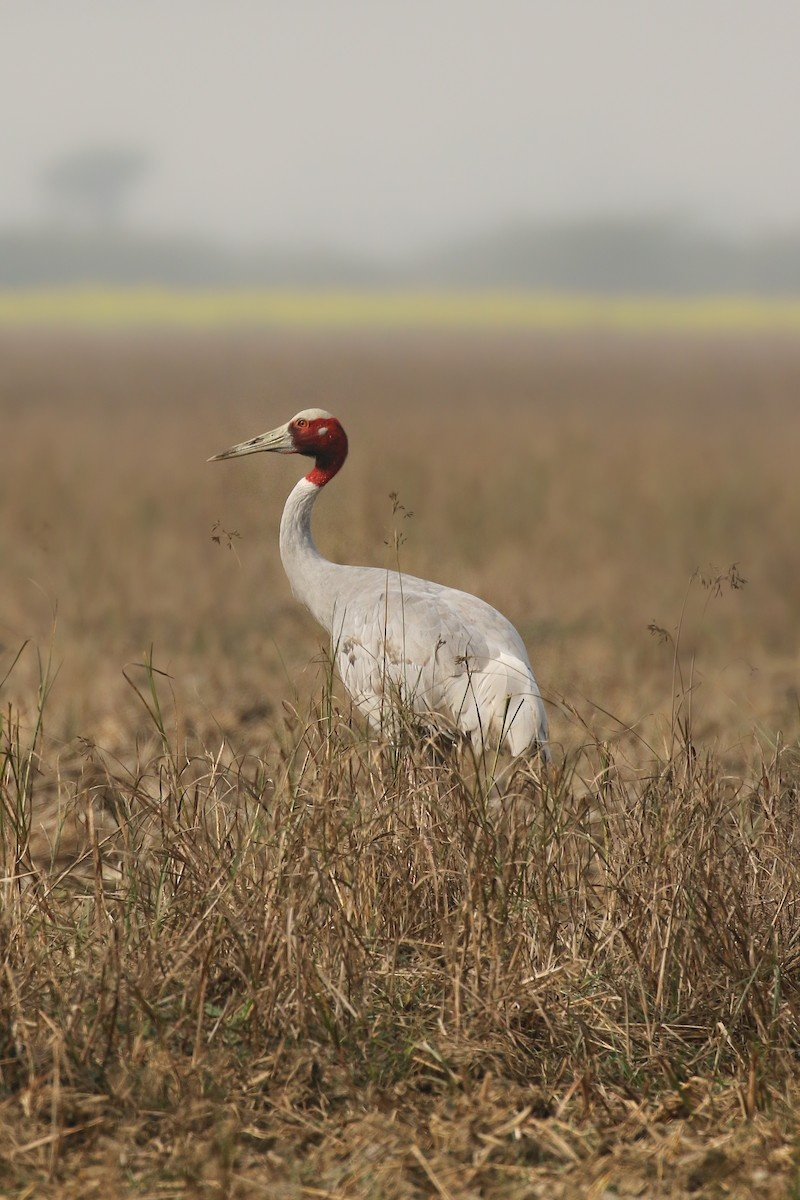crane: (206, 401, 551, 791)
